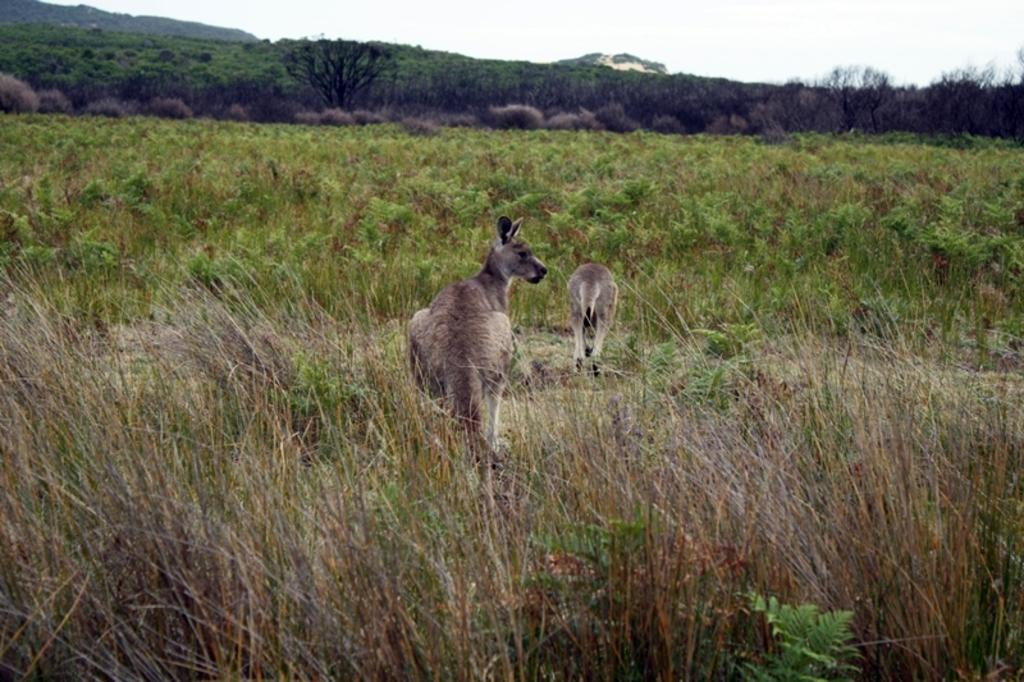kangaroo: (404, 215, 550, 484), (564, 250, 620, 382)
